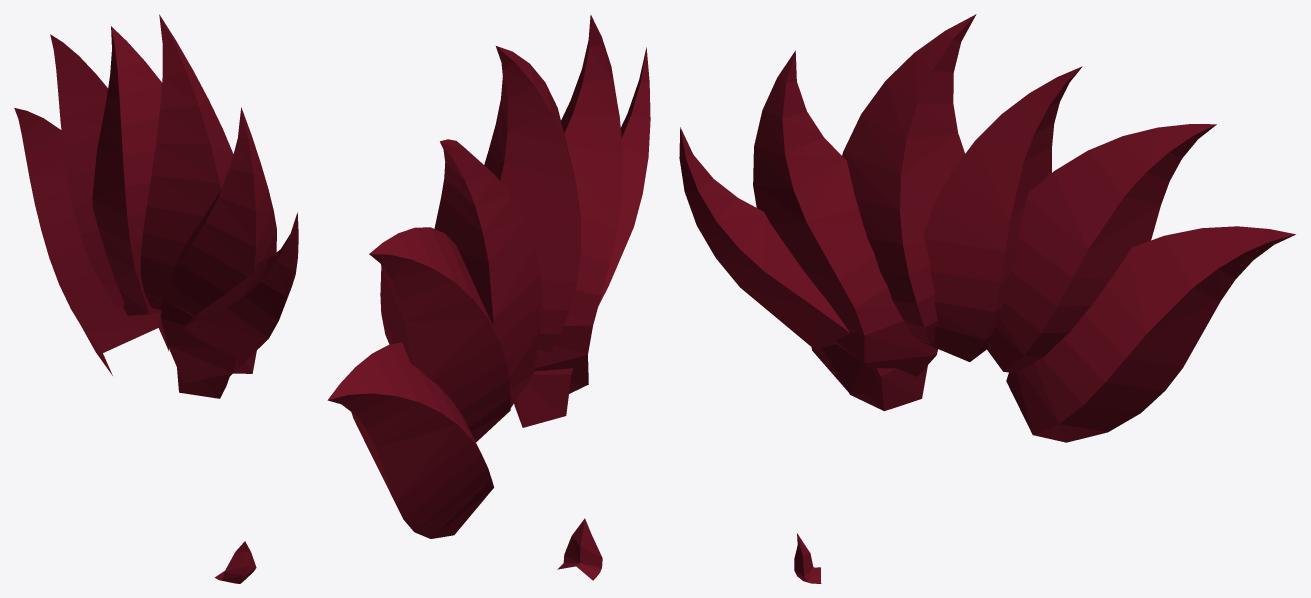
The model's file is hair-mohawk.mid.198e1c14.glb.
3 views of the same model, side by side, from view 1: azimuth 30°, elevation 25°; view 2: azimuth 150°, elevation 25°; view 3: azimuth 270°, elevation 25° (orthographic). The views are drawn at different scales.
Parts seen in each view (by area): view 1: hair-mohawk; view 2: hair-mohawk; view 3: hair-mohawk.
Part boxes in pixels (x1,y1,x2,y2): hair-mohawk: [14, 14, 298, 583]; hair-mohawk: [327, 14, 650, 580]; hair-mohawk: [679, 14, 1295, 583].
Size of the model in its own units: 0.0833 by 0.3964 by 0.3897.
